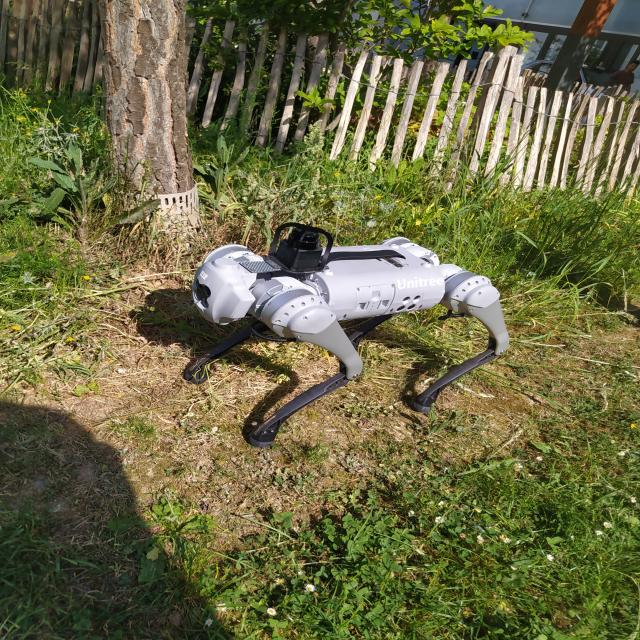unitree-go1-robot: (197, 227, 513, 444)
